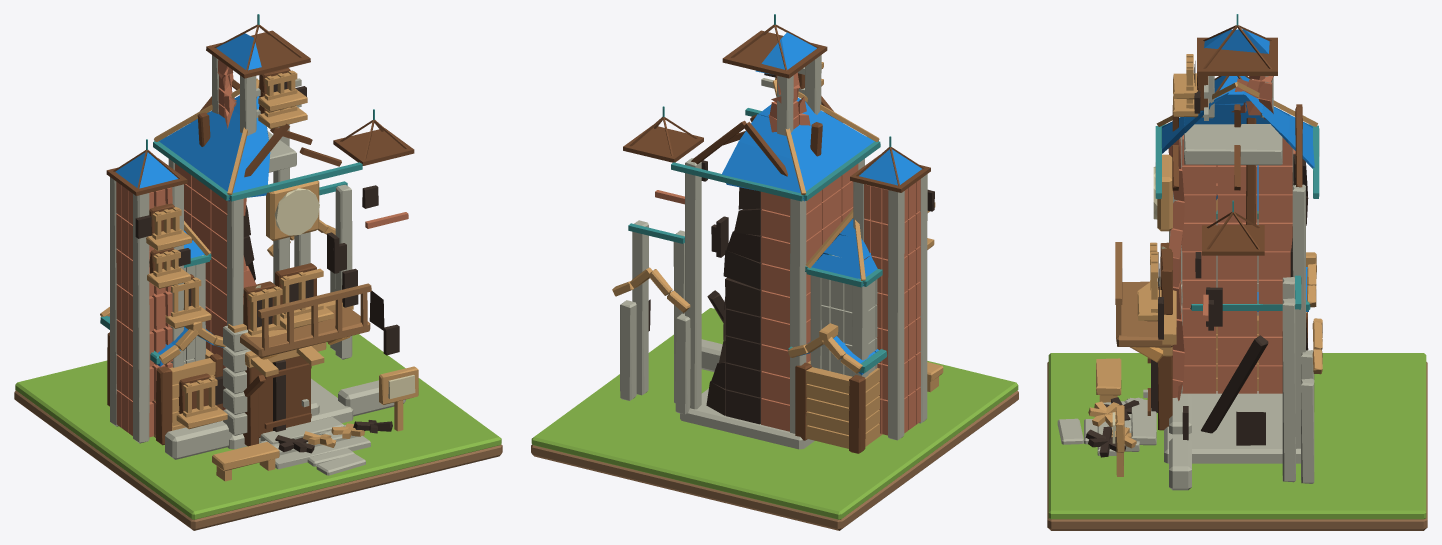
The model's file is town_hall_l11_damaged_LOD1.glb.
The picture shows the model from 3 angles, left to right: view 1: azimuth 30°, elevation 25°; view 2: azimuth 150°, elevation 25°; view 3: azimuth 270°, elevation 25°; orthographic projection. The views are drawn at different scales.
Visible parts, largest first — view 1: town_hall_l11_damaged_foundation.001, town_hall_l11_damaged_grass_tile.001, town_hall_l11_damaged_earth_tile.001, town_hall_l11_damaged_path_stone.005; view 2: town_hall_l11_damaged_foundation.001, town_hall_l11_damaged_grass_tile.001, town_hall_l11_damaged_earth_tile.001; view 3: town_hall_l11_damaged_foundation.001, town_hall_l11_damaged_grass_tile.001, town_hall_l11_damaged_earth_tile.001, town_hall_l11_damaged_path_stone.005.
Part boxes in pixels (box(x1,y1,x2,y2)): town_hall_l11_damaged_foundation.001: box(100, 14, 418, 481); town_hall_l11_damaged_grass_tile.001: box(15, 334, 501, 519); town_hall_l11_damaged_earth_tile.001: box(14, 390, 502, 530); town_hall_l11_damaged_path_stone.005: box(316, 453, 365, 475); town_hall_l11_damaged_foundation.001: box(612, 14, 943, 453); town_hall_l11_damaged_grass_tile.001: box(531, 308, 1018, 519); town_hall_l11_damaged_earth_tile.001: box(531, 390, 1018, 530); town_hall_l11_damaged_foundation.001: box(1085, 14, 1322, 490); town_hall_l11_damaged_grass_tile.001: box(1048, 353, 1426, 519); town_hall_l11_damaged_earth_tile.001: box(1047, 362, 1427, 530); town_hall_l11_damaged_path_stone.005: box(1057, 418, 1083, 444).
Size of the model in its own units: 3.6 by 4.58 by 3.6.
